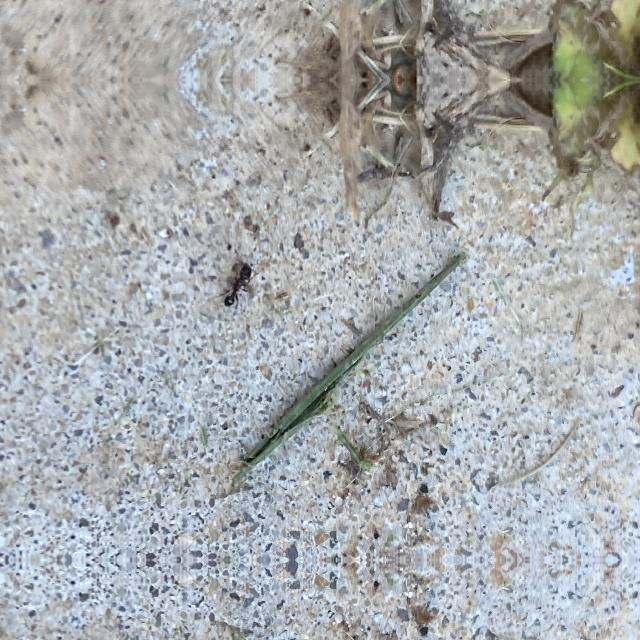Tetramorium: (213, 256, 263, 312)
